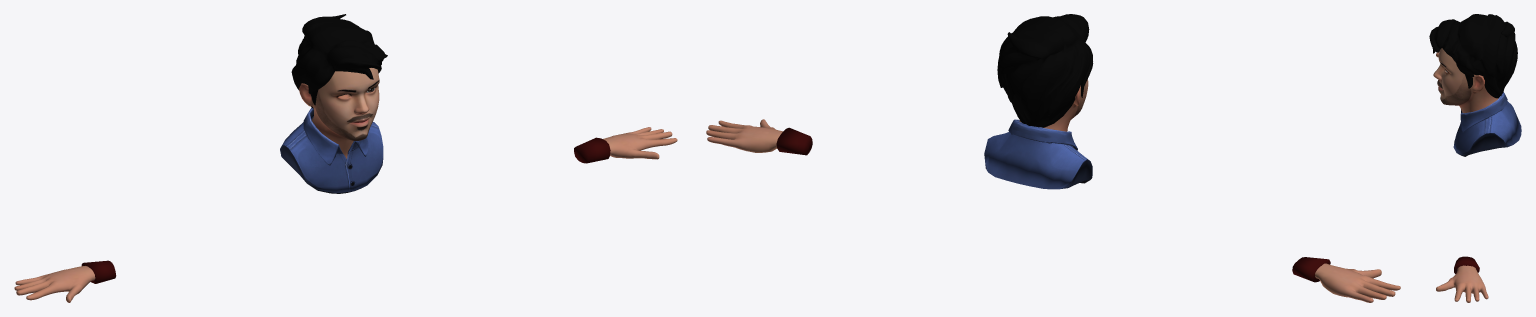
File: head.gltf
3 views of the same model, side by side, from view 1: azimuth 30°, elevation 25°; view 2: azimuth 150°, elevation 25°; view 3: azimuth 270°, elevation 25° (orthographic). The views are drawn at different scales.
Parts seen in each view (by area): view 1: Wolf3D_Shirt, Wolf3D_Hair, Wolf3D_Hands, Wolf3D_Head; view 2: Wolf3D_Hair, Wolf3D_Shirt, Wolf3D_Hands, Wolf3D_Head; view 3: Wolf3D_Hair, Wolf3D_Shirt, Wolf3D_Head, Wolf3D_Hands.
Part boxes in pixels (box(x1,y1,x2,y2)): Wolf3D_Shirt: box(280, 107, 383, 193); Wolf3D_Hair: box(291, 14, 387, 108); Wolf3D_Hands: box(14, 127, 677, 302); Wolf3D_Head: box(299, 68, 379, 158); Wolf3D_Hair: box(997, 14, 1093, 127); Wolf3D_Shirt: box(984, 119, 1092, 189); Wolf3D_Hands: box(706, 119, 1400, 302); Wolf3D_Head: box(1019, 79, 1088, 131); Wolf3D_Hair: box(1429, 14, 1517, 98); Wolf3D_Shirt: box(1453, 92, 1521, 156); Wolf3D_Head: box(1433, 48, 1498, 113); Wolf3D_Hands: box(1436, 52, 1488, 302).
Size of the model in its own units: 1.67 by 0.4699 by 0.2489.
7 materials, 7 textured.
